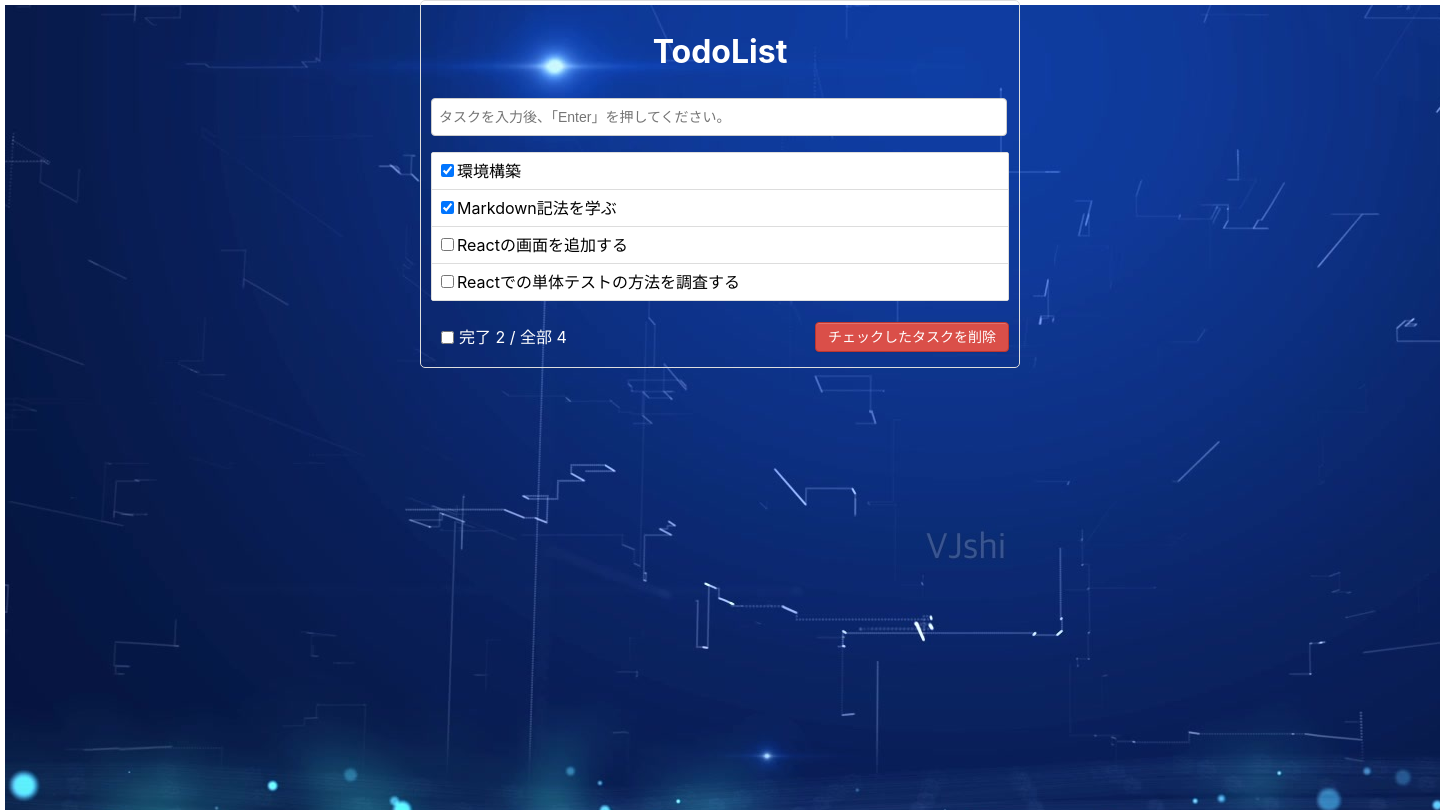
Scenario: 入力の確認
The width and height of the screenshot is (1440, 810).
Expected: the text "タスク１" is not shown
Expected: the text "完了 2 / 全部 4" is shown, [459,327,567,347]
操作：入力欄に"タスク１"を入力
In the field with placeholder "タスクを入力後、「Enter」を押してください。": (719, 117) [431,98,1007,136], type "タスク１"
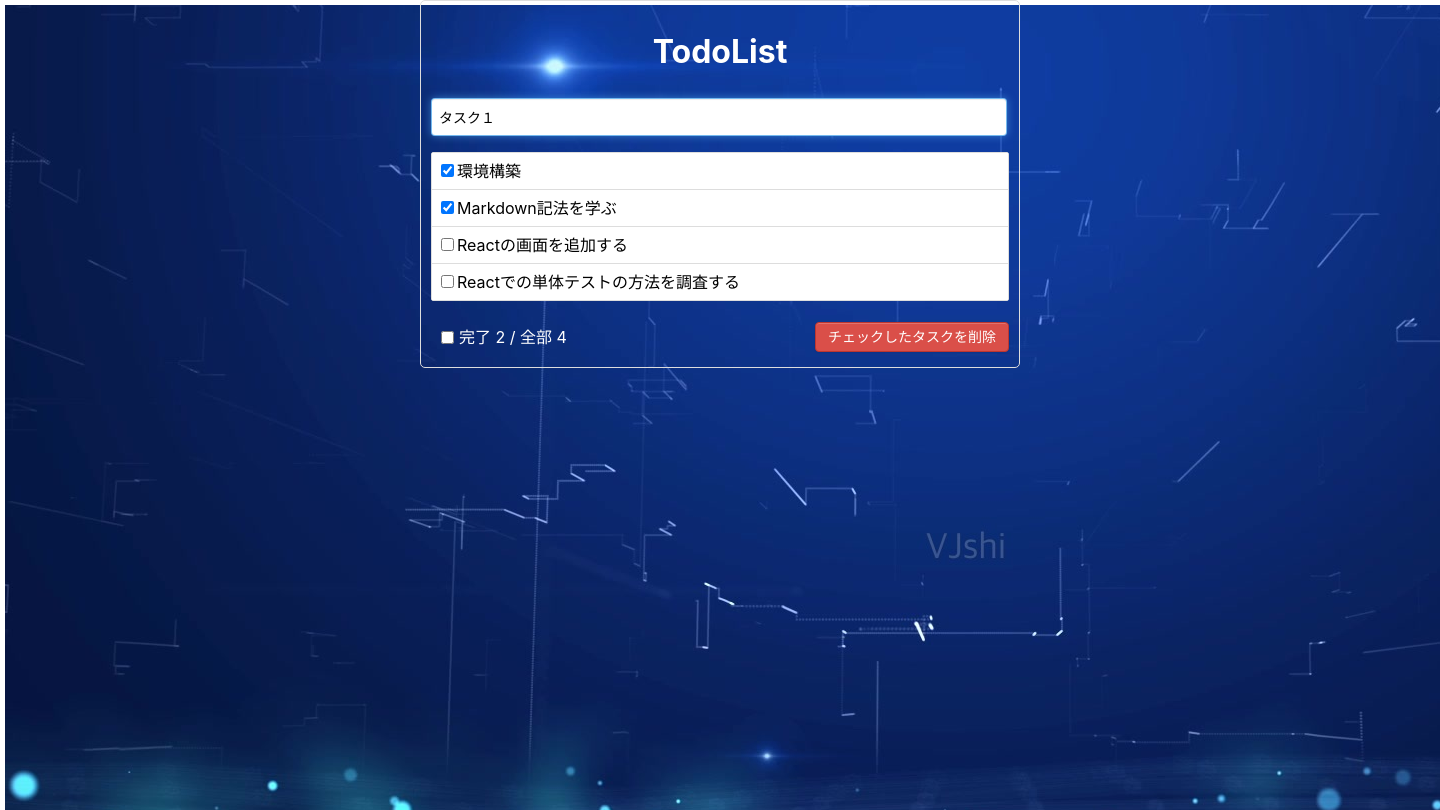
操作：「Enter」を押下
Press Enter in the field with placeholder "タスクを入力後、「Enter」を押してください。", box [431,98,1007,136]
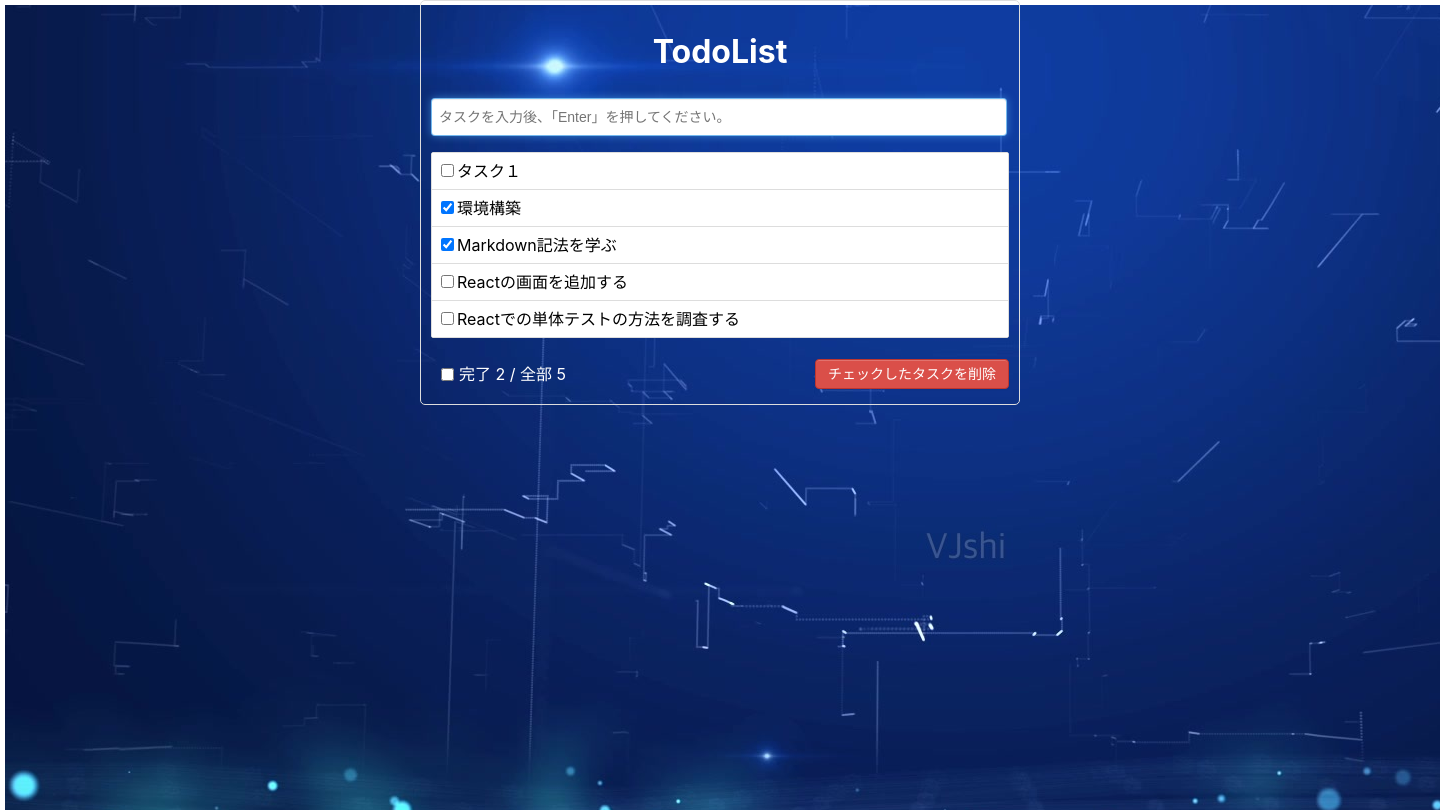
Expected: the number of list items is 5, [432,153,1008,190]; [432,190,1008,227]; [432,227,1008,264]; [432,264,1008,301]; [432,301,1008,337]
Expected: the list item "タスク１" is shown, [432,153,1008,190]
Expected: the text "完了 2 / 全部 5" is shown, [459,364,566,384]
